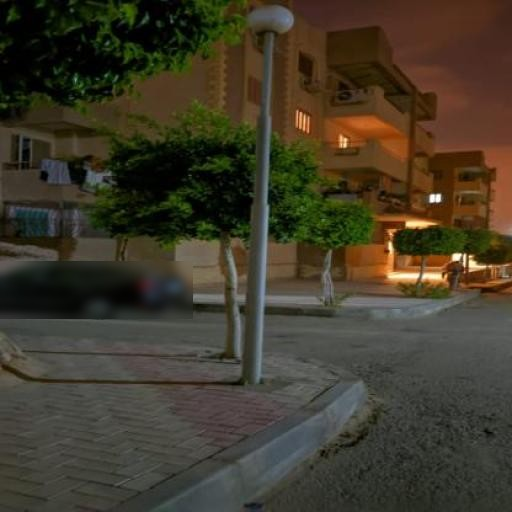acesa: (242, 4, 296, 38)
apagada: (240, 1, 298, 38)
